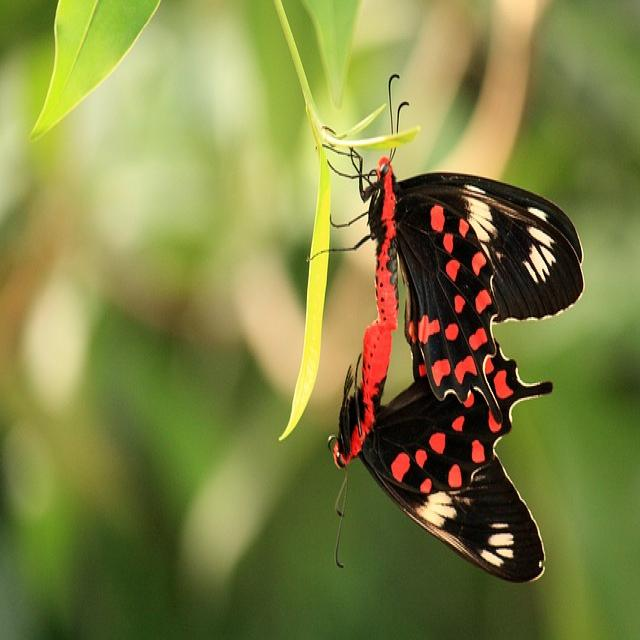butterfly: (331, 161, 585, 586)
